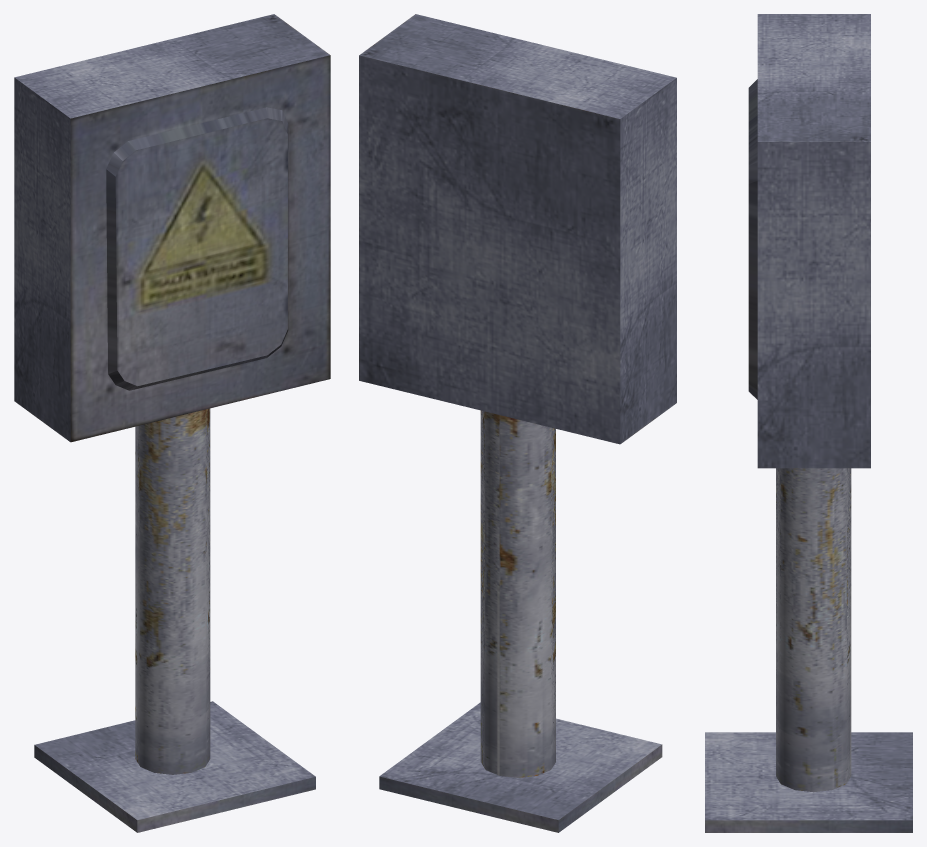
The model's file is Registro_de_Pie.fbx.
3 renders of one model, left to right at view 1: azimuth 30°, elevation 25°; view 2: azimuth 150°, elevation 25°; view 3: azimuth 270°, elevation 25°, orthographic.
Visible parts, largest first — view 1: Registro_de_Pie; view 2: Registro_de_Pie; view 3: Registro_de_Pie.
Part boxes in pixels (x1=…): Registro_de_Pie: x1=14, y1=14, x2=330, y2=832; Registro_de_Pie: x1=359, y1=14, x2=676, y2=832; Registro_de_Pie: x1=705, y1=14, x2=912, y2=832.
Bounding box in the file's own units: 50.54 × 131 × 34.72.
1 material, 1 textured.
